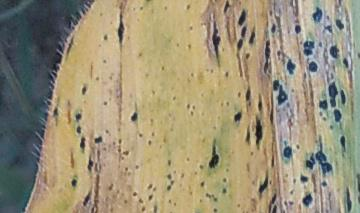tarspot: (315, 136, 333, 176), (210, 19, 221, 61), (263, 39, 271, 74), (117, 14, 125, 44), (210, 145, 220, 168), (329, 80, 337, 108), (345, 186, 353, 213), (303, 40, 315, 57), (278, 85, 288, 104), (255, 120, 262, 147), (259, 174, 268, 194), (286, 58, 297, 74), (312, 7, 322, 24), (306, 151, 315, 169), (302, 194, 314, 207), (323, 21, 334, 35), (307, 60, 318, 73), (237, 10, 246, 25), (82, 191, 91, 206), (283, 146, 293, 159), (333, 108, 342, 122), (335, 19, 345, 31), (130, 110, 139, 123), (330, 45, 339, 58), (300, 173, 310, 184), (248, 31, 256, 44), (340, 89, 346, 106), (233, 112, 242, 123), (319, 99, 328, 110), (79, 136, 86, 150), (236, 38, 244, 50), (342, 57, 350, 69), (52, 105, 59, 118), (258, 96, 263, 113), (223, 1, 230, 13), (240, 26, 247, 38), (86, 157, 92, 171), (70, 179, 78, 189), (340, 135, 346, 148), (356, 173, 360, 192), (245, 128, 250, 143), (245, 88, 251, 100), (75, 112, 82, 122), (93, 136, 103, 143), (270, 24, 277, 34), (273, 79, 279, 90), (220, 187, 228, 195), (197, 161, 204, 170), (295, 24, 301, 34), (107, 181, 113, 191), (130, 190, 138, 197), (101, 100, 109, 107), (100, 145, 108, 152), (184, 155, 191, 163), (161, 4, 168, 12), (121, 150, 130, 156), (189, 70, 195, 79), (82, 85, 87, 95), (102, 34, 109, 41), (275, 50, 282, 57), (184, 3, 191, 10), (197, 197, 204, 204), (76, 126, 82, 134), (268, 9, 274, 17), (198, 181, 206, 187), (146, 139, 152, 147), (188, 110, 194, 118), (185, 102, 191, 110), (221, 176, 227, 184), (171, 93, 177, 101), (149, 130, 155, 138), (209, 67, 215, 75), (152, 204, 157, 213), (224, 71, 230, 78), (321, 182, 328, 188), (166, 173, 172, 180), (165, 185, 172, 191), (146, 183, 153, 189), (140, 206, 146, 213), (103, 128, 110, 134), (204, 192, 211, 198), (212, 207, 219, 213), (236, 91, 242, 98), (186, 43, 192, 50), (318, 41, 324, 48), (111, 139, 117, 146), (272, 194, 276, 204), (117, 137, 122, 145), (225, 100, 230, 108), (249, 149, 254, 157), (326, 13, 331, 21), (245, 53, 251, 59), (295, 144, 301, 150), (322, 116, 328, 122), (272, 204, 276, 213), (133, 164, 139, 170), (123, 165, 129, 171), (138, 5, 144, 11), (289, 189, 295, 195), (292, 178, 298, 184), (283, 198, 287, 207), (137, 52, 143, 58), (148, 194, 153, 201), (289, 199, 294, 206), (161, 64, 165, 72), (329, 124, 334, 130), (269, 203, 272, 213), (138, 198, 144, 203), (213, 197, 218, 203), (123, 199, 128, 205), (167, 198, 172, 204), (95, 76, 100, 82), (179, 173, 185, 178), (236, 203, 242, 208), (319, 110, 323, 117), (189, 24, 193, 31), (152, 89, 156, 96), (168, 158, 171, 167), (102, 59, 107, 64), (357, 195, 360, 203), (137, 134, 143, 138), (192, 104, 196, 110), (357, 52, 360, 60), (291, 88, 295, 93)
